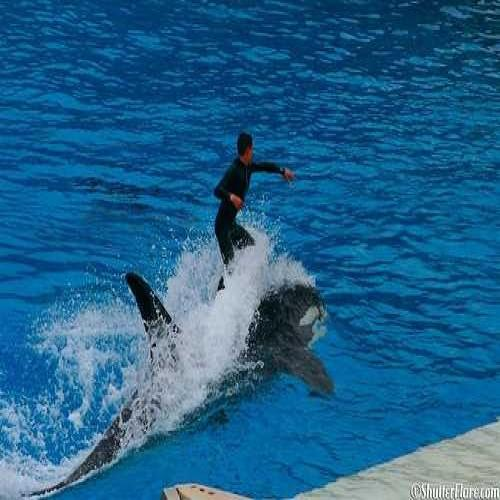killer_whale-endangered: (58, 255, 352, 448)
